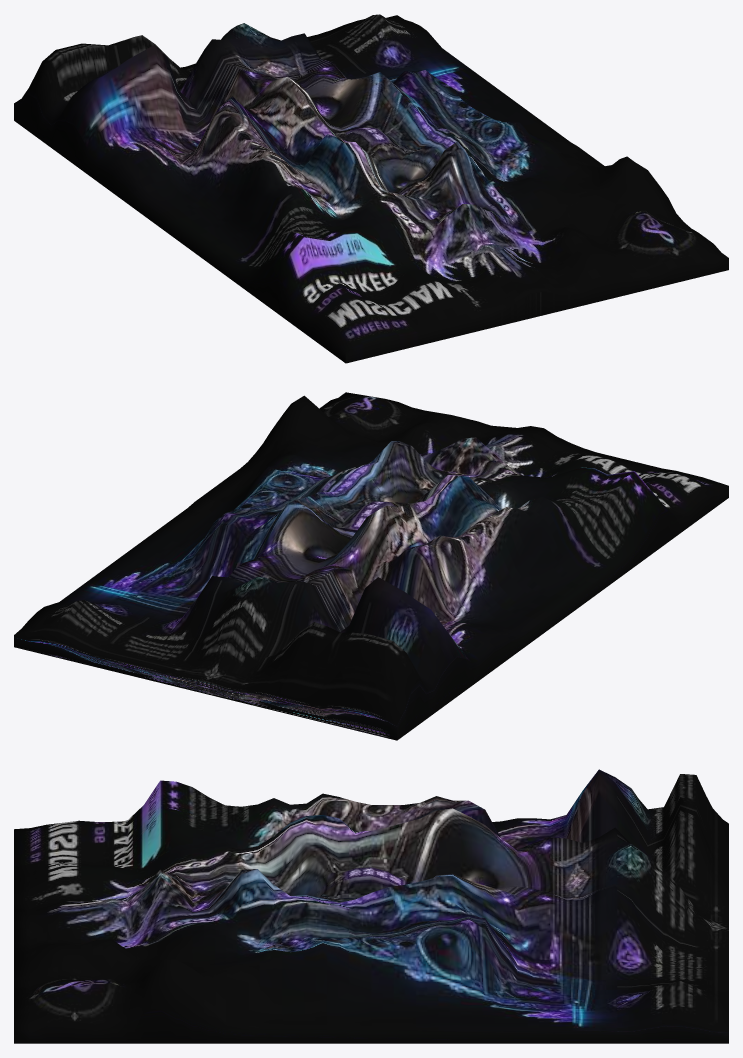
The model's file is CAREER_04_Tool_06_Speaker.glb.
3 views of the same model, one above another, from view 1: azimuth 30°, elevation 25°; view 2: azimuth 150°, elevation 25°; view 3: azimuth 270°, elevation 25° (orthographic). The views are drawn at different scales.
Visible parts, largest first — view 1: CAREER_04_Tool_06_Speaker; view 2: CAREER_04_Tool_06_Speaker; view 3: CAREER_04_Tool_06_Speaker.
Boxes of the visible parts, <box> form: CAREER_04_Tool_06_Speaker: <box>14,14,728,363</box>; CAREER_04_Tool_06_Speaker: <box>14,392,728,740</box>; CAREER_04_Tool_06_Speaker: <box>14,769,728,1043</box>.
Bounding box in the file's own units: 2 × 0.51 × 3.
Materials: 1 (1 with a texture image).
